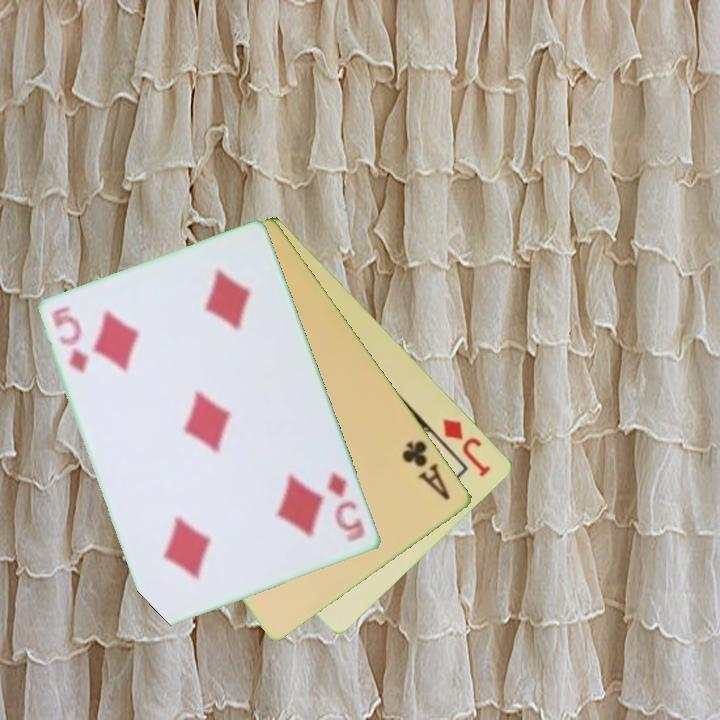5d: (325, 467, 369, 546), (56, 311, 92, 378)
Ac: (399, 437, 454, 504)
Jd: (439, 415, 494, 480)
